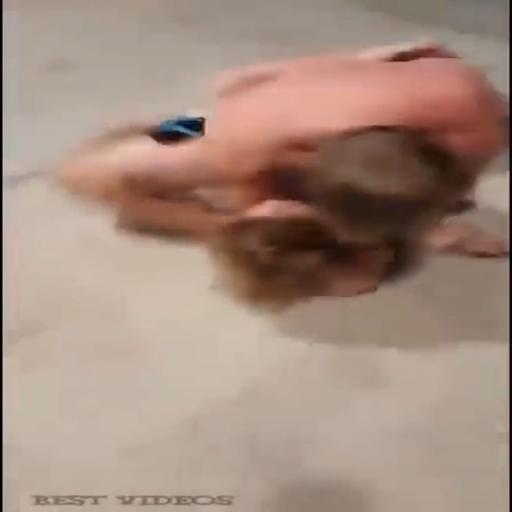violencia: (48, 25, 512, 321)
